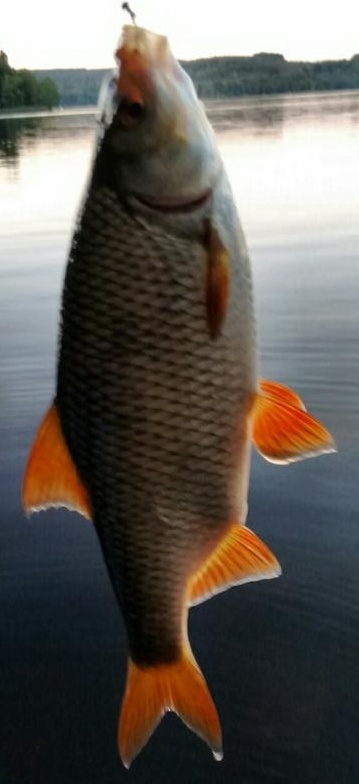Scardinius erythrophthalmus: (20, 20, 339, 764)
